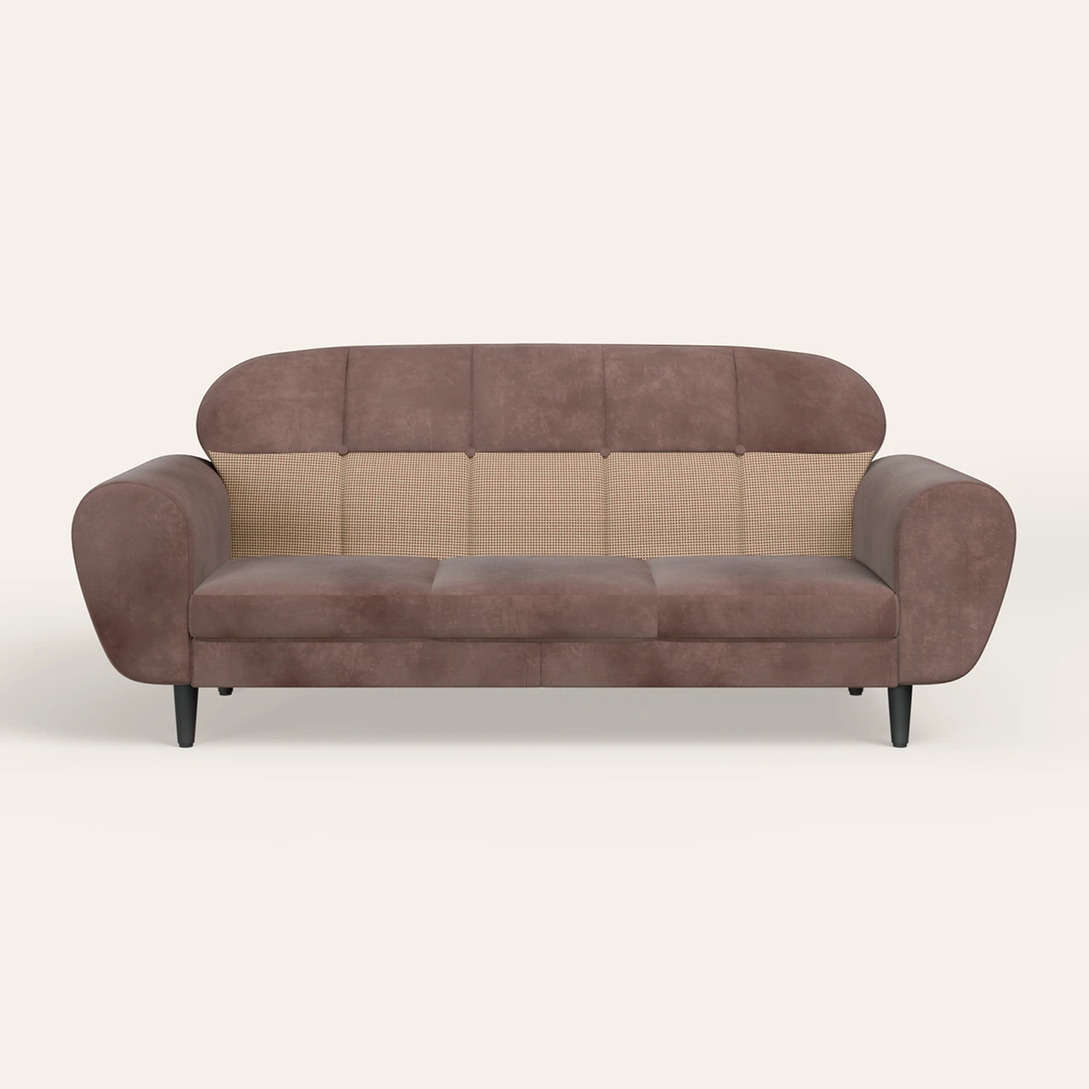3seatersofa: (72, 345, 1015, 746)
backrest: (197, 345, 884, 557), (261, 514, 271, 522)
base: (191, 640, 896, 687)
leftarmrest: (854, 455, 1015, 683)
leg: (174, 685, 198, 747), (890, 685, 911, 747), (218, 687, 233, 696), (849, 687, 863, 696)
rightarmrest: (73, 455, 230, 682)
seat: (191, 556, 898, 640)
